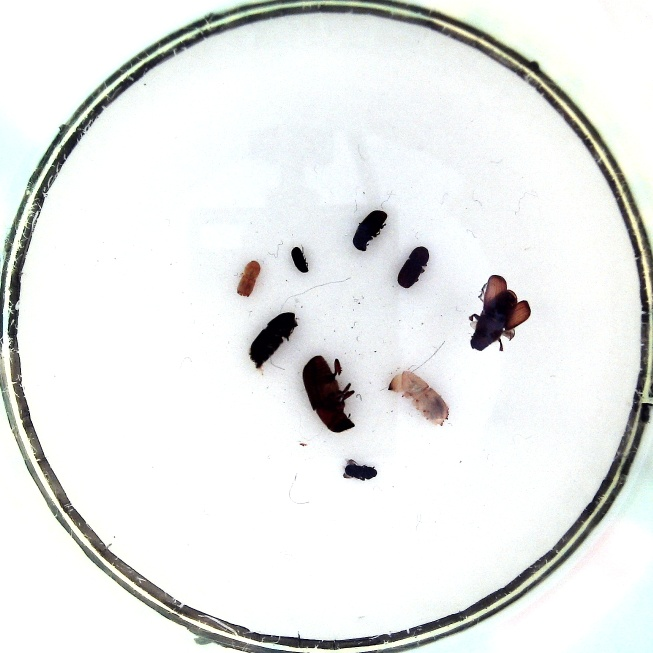acuminatus: (233, 258, 263, 298)
armandi: (350, 208, 390, 254)
boerner: (386, 371, 453, 427)
coleoptera: (340, 456, 384, 483), (289, 244, 312, 276)
leconte: (464, 273, 532, 357), (299, 353, 360, 436), (248, 308, 300, 373)
linnaeus: (394, 245, 435, 289)
